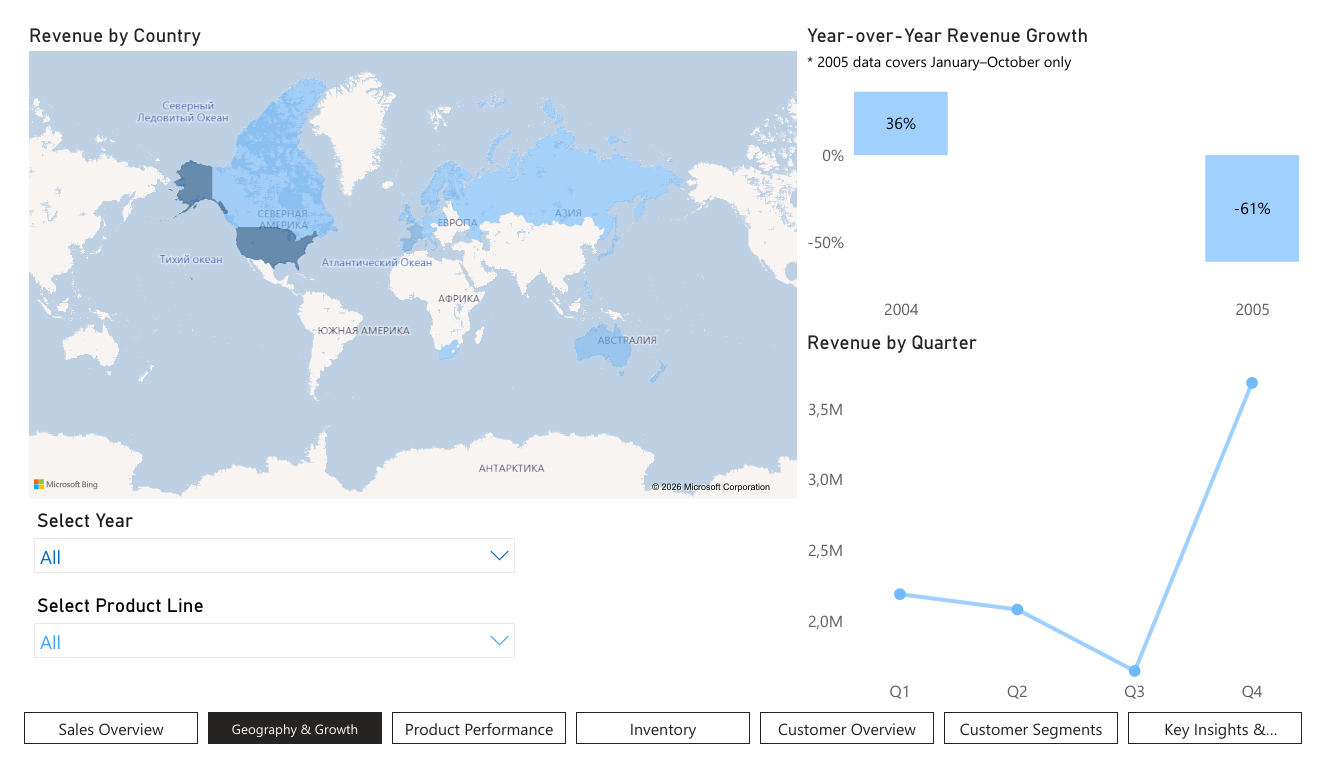

The dashboard page shown, as its layout file describes it:
{"tool":"powerbi","page":{"name":"Geography & Growth","canvas":[1280,720],"ordinal":1},"visuals":[{"type":"filledMap","title":"Revenue by Country","fields":{"Category":["customers.country"]},"box":[0,0,778,480.3],"z":0},{"type":"columnChart","title":"Year-over-Year Revenue Growth","fields":{"Category":["DateTable.Year"],"Y":["_Measures.Revenue Growth %"]},"box":[778,0,502.2,307.4],"z":1000},{"type":"lineChart","title":"Revenue by Quarter","fields":{"Y":["_Measures.Total Revenue"],"Category":["DateTable.Quarter"]},"box":[778,307.4,502.2,381.5],"z":2000},{"type":"slicer","fields":{"Values":["DateTable.Year"]},"box":[0,480.3,500.9,76.8],"z":3000},{"type":"slicer","fields":{"Values":["products.productLine"]},"box":[0,565.4,500.9,89.2],"z":4000},{"type":"pageNavigator","box":[0,688.4,1280.3,31.6],"z":5000}]}

Visuals, with their boxes in screenshot pixels (x1, y1, x2, y2), scaled from the page's 1280x720 canvas onto the 1328x768 screenshot:
"Revenue by Country" filledMap: box=[0, 0, 807, 512]
"Year-over-Year Revenue Growth" columnChart: box=[807, 0, 1327, 328]
"Revenue by Quarter" lineChart: box=[807, 328, 1327, 735]
slicer - DateTable.Year: box=[0, 512, 520, 594]
slicer - products.productLine: box=[0, 603, 520, 698]
pageNavigator: box=[0, 734, 1327, 767]
